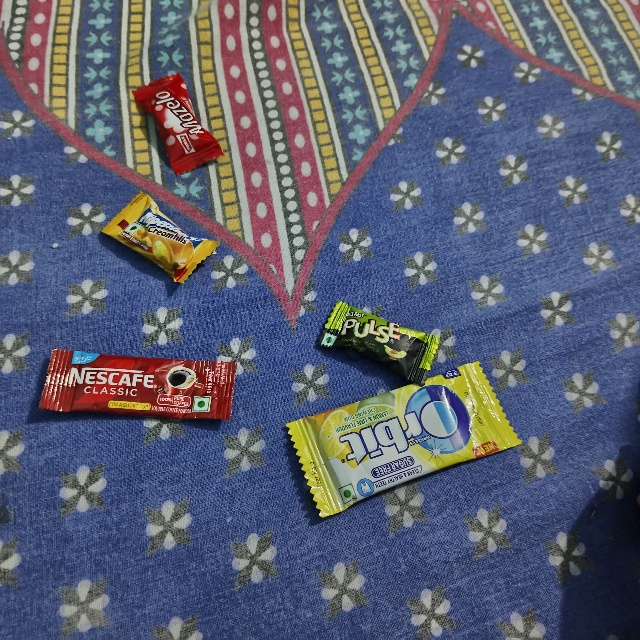Alpenlibe Creamfills: (135, 180, 242, 243)
Mazelo: (128, 90, 191, 194)
Nescafe Coffee: (48, 346, 238, 424)
Orbit: (282, 423, 498, 523)
Pulse: (338, 290, 457, 354)
